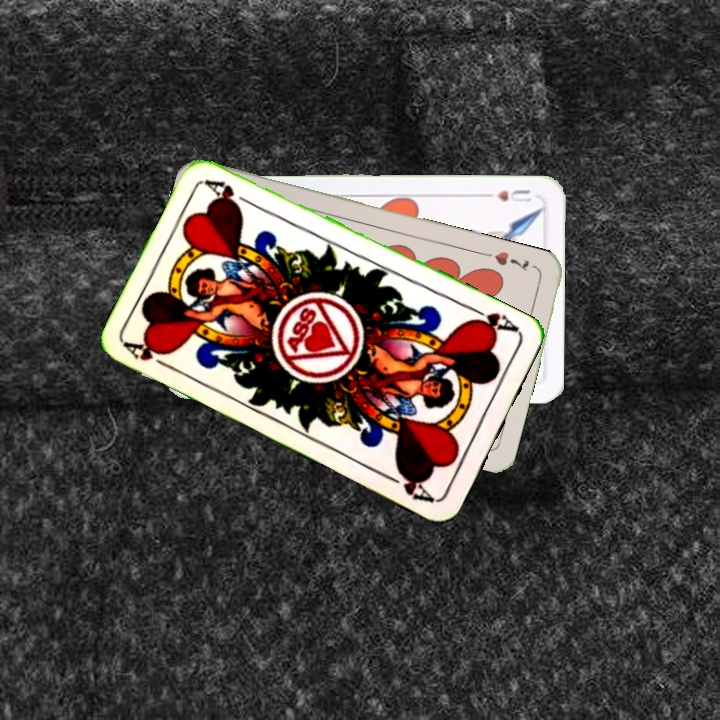H7: (490, 247, 532, 274)
HA: (121, 336, 177, 373), (465, 302, 522, 338)
HU: (480, 185, 533, 205)
